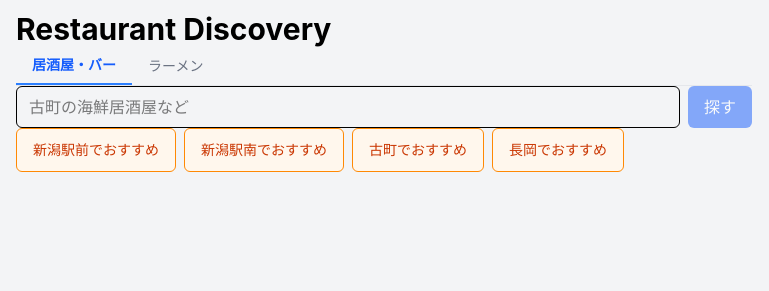
Scenario: App - ramen-search-mode 結合テスト › ラーメン検索: 検索条件タグに「ラーメン」が表示される（Req 2.1, 2.4）
Click the tab "ラーメン" at (176, 66), box [132,47,220,85]
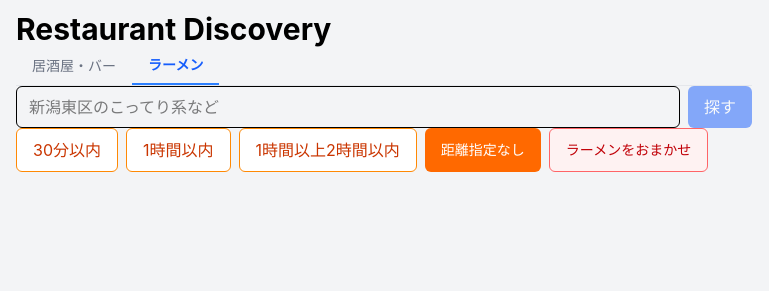
Type "駅前で味噌ラーメン" into the field named "レストラン検索" at (348, 107), box [16,86,680,128]
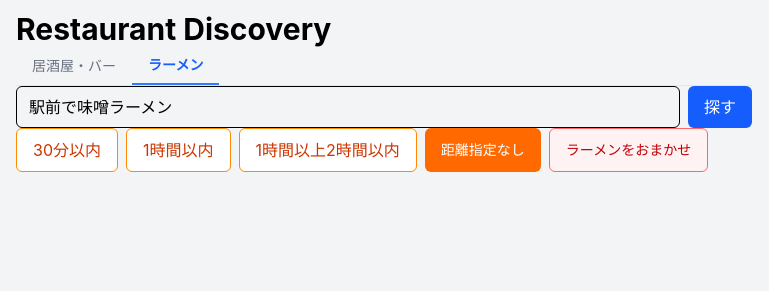
Submit the form, box [16,86,752,128]
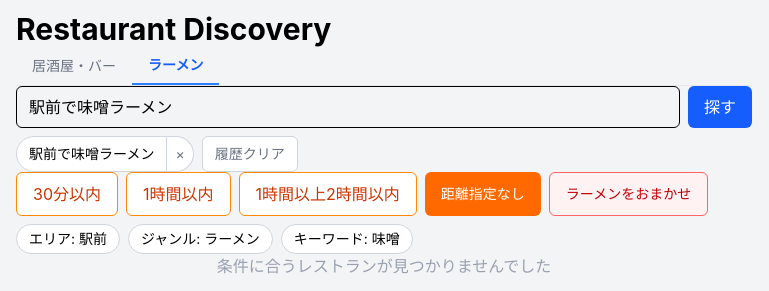
Expected: the text "ジャンル: ラーメン" is shown, [128,224,273,254]
Expected: the text "エリア: 駅前" is shown, [16,224,120,254]
